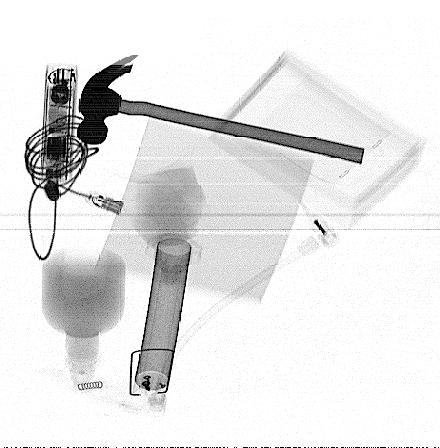Hammer: (76, 54, 365, 164)
